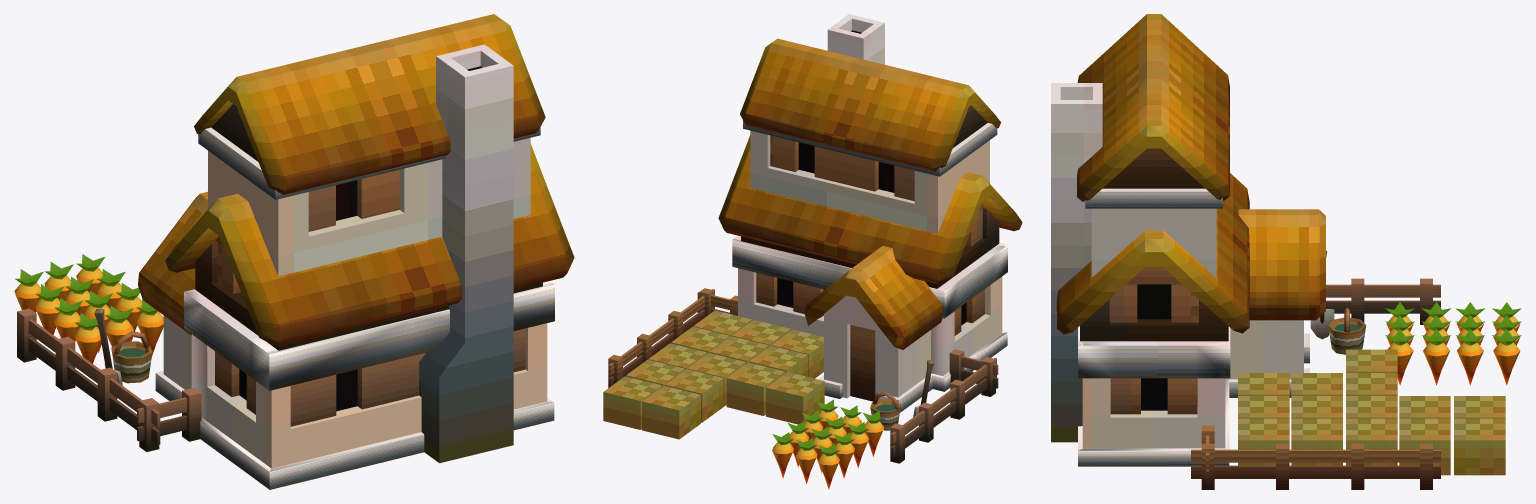
Rendered from farm_lvl6.glb.
The picture shows the model from 3 angles, left to right: view 1: azimuth 30°, elevation 25°; view 2: azimuth 150°, elevation 25°; view 3: azimuth 270°, elevation 25°; orthographic projection. The views are drawn at different scales.
Parts seen in each view (by area): view 1: farm_lvl6_Material #25_0; view 2: farm_lvl6_Material #25_0; view 3: farm_lvl6_Material #25_0.
Boxes of the visible parts, x1,y1,x2,y2 form: farm_lvl6_Material #25_0: (14, 14, 574, 489); farm_lvl6_Material #25_0: (603, 14, 1022, 489); farm_lvl6_Material #25_0: (1051, 14, 1521, 489).
Bounding box in the file's own units: 6.43 × 6.07 × 7.3.
Materials: 1 (1 with a texture image).
